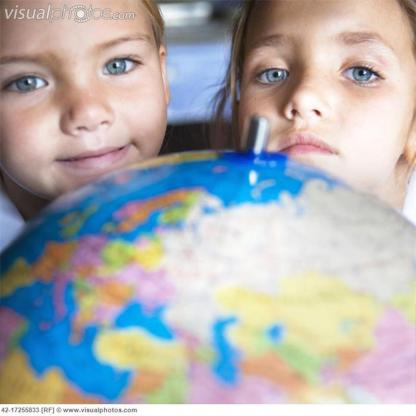face: (6, 6, 166, 200), (254, 5, 406, 182)
